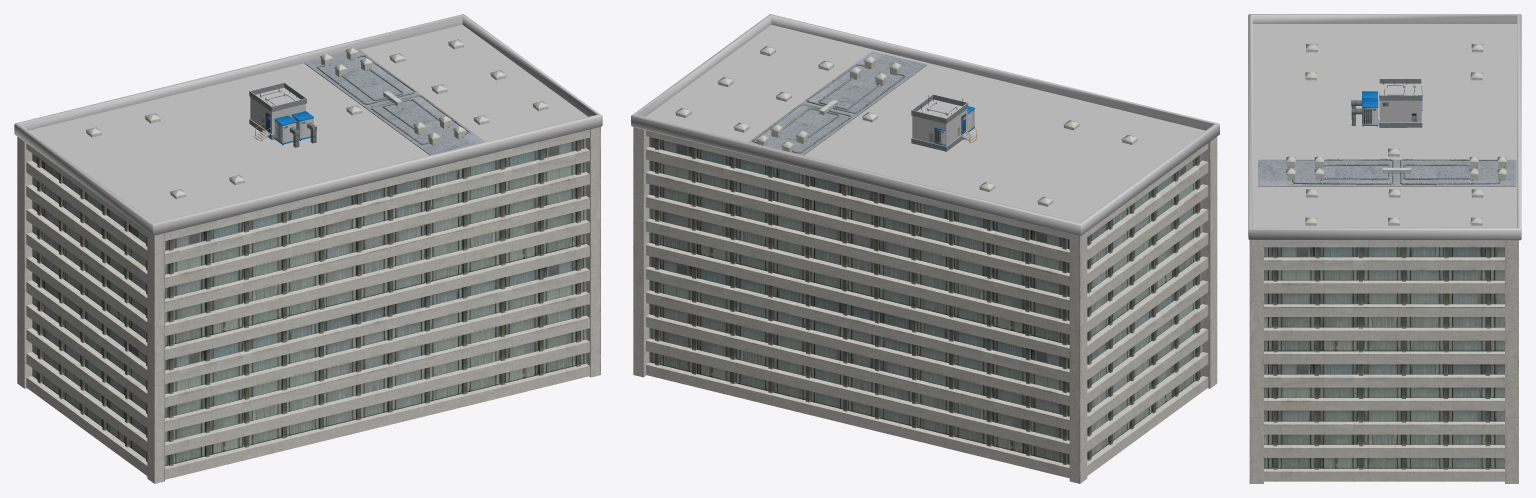
Rendered from u2NBuild3.gltf.
3 views of the same model, side by side, from view 1: azimuth 30°, elevation 25°; view 2: azimuth 150°, elevation 25°; view 3: azimuth 270°, elevation 25° (orthographic).
Parts seen in each view (by area): view 1: u2NBuild3; view 2: u2NBuild3; view 3: u2NBuild3.
Boxes of the visible parts, box(x1,y1,x2,y2) form: u2NBuild3: box(14, 14, 602, 483); u2NBuild3: box(631, 14, 1219, 483); u2NBuild3: box(1248, 14, 1521, 483).
Bounding box in the file's own units: 21.47 × 13.18 × 11.49.
